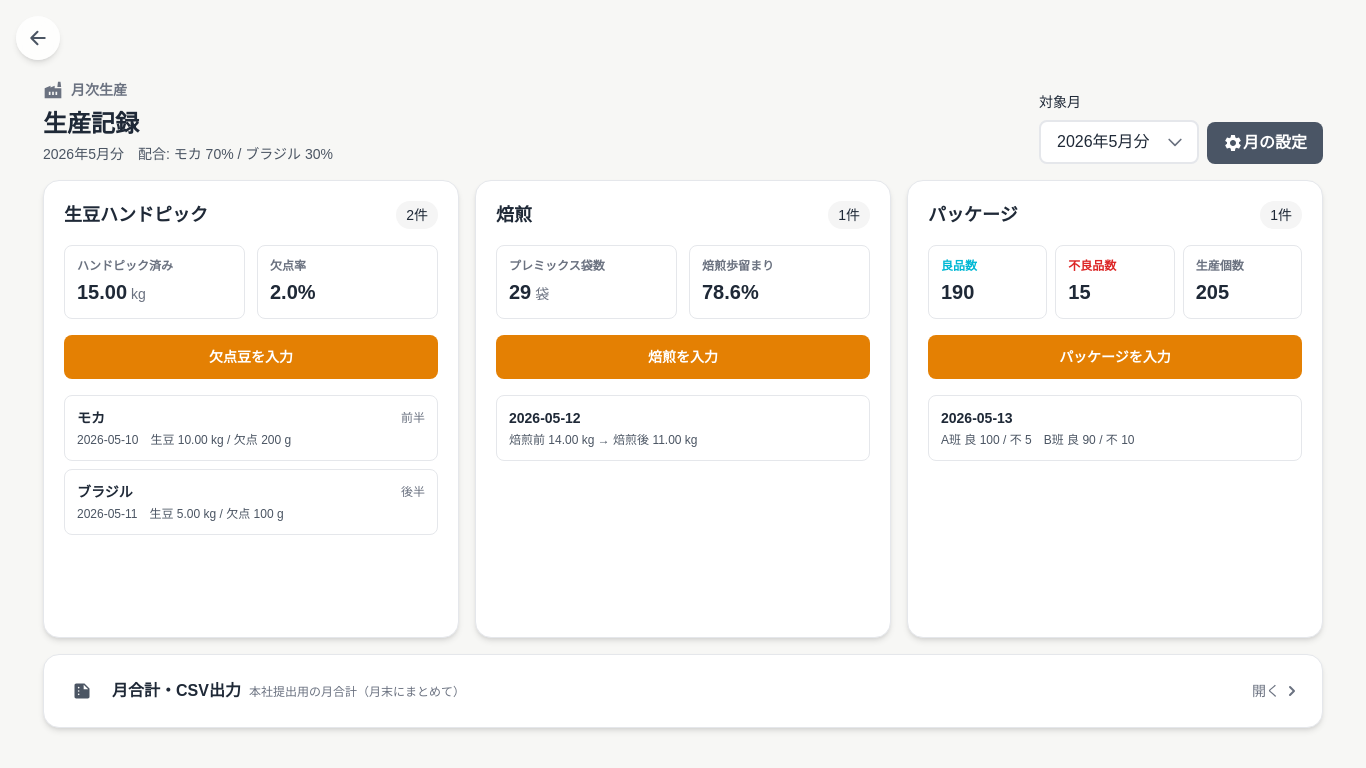
Test: ProductionRecordPage データ表示と集計 › 月合計サマリーとCSVプレビューを表示する
The image size is (1366, 768).
// 月合計は普段隠れており、下部バーのタップでモーダルとして開く
Click the button "月合計・CSV出力 本社提出用の月合計（月末にまとめて） 開く" at point(82, 691), box [52,663,1314,719]
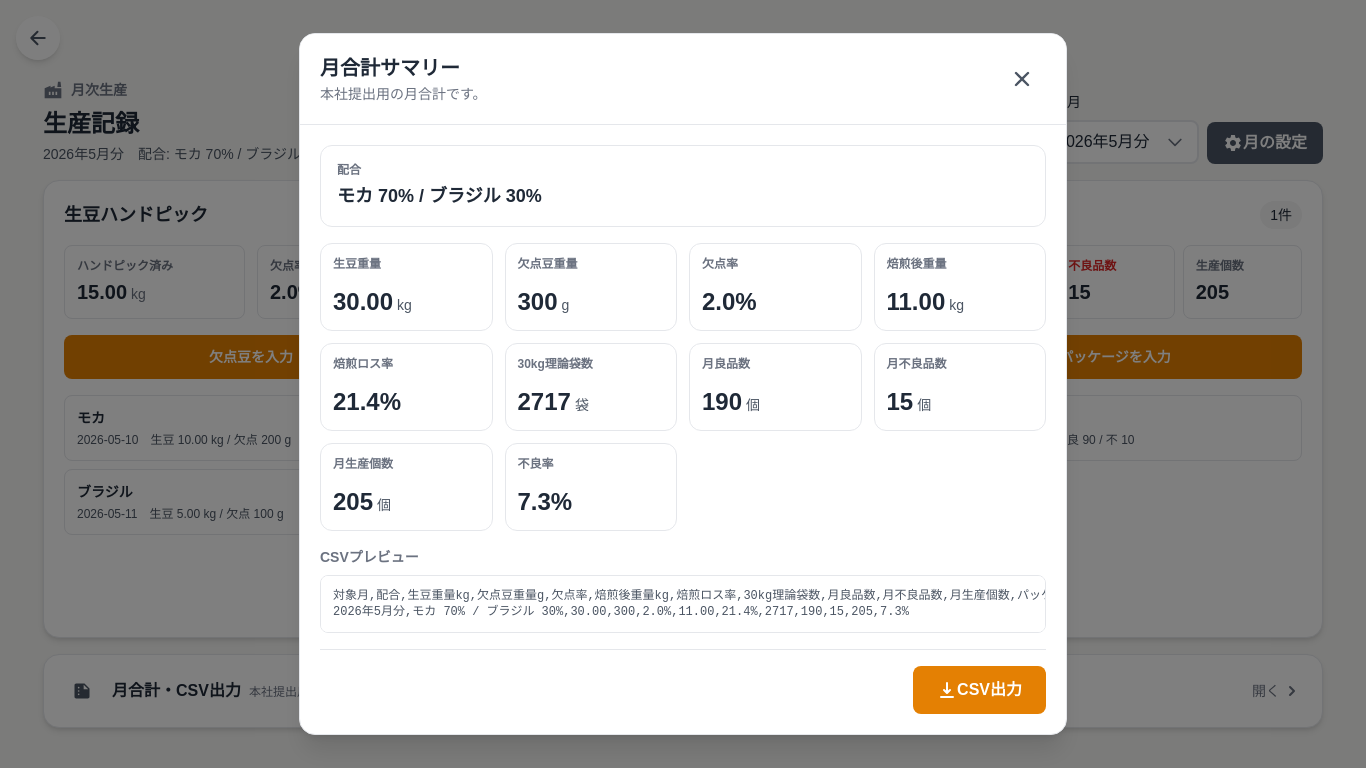
Expected: the heading "月合計サマリー" is shown, [320,57,460,79]
Expected: the text "モカ 70% / ブラジル 30%" is shown, [337,186,542,206]
Expected: the text "対象月" is shown, [333,589,1066,619]
